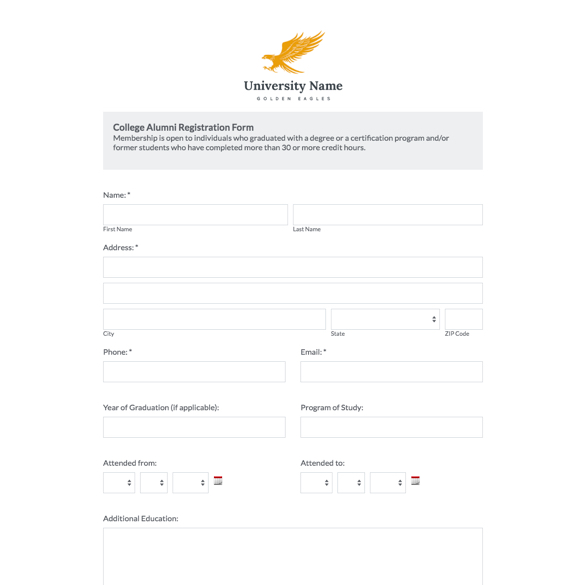dropdown: (294, 455, 433, 498), (103, 466, 210, 498)
textbox: (99, 511, 487, 585), (101, 255, 486, 306)
